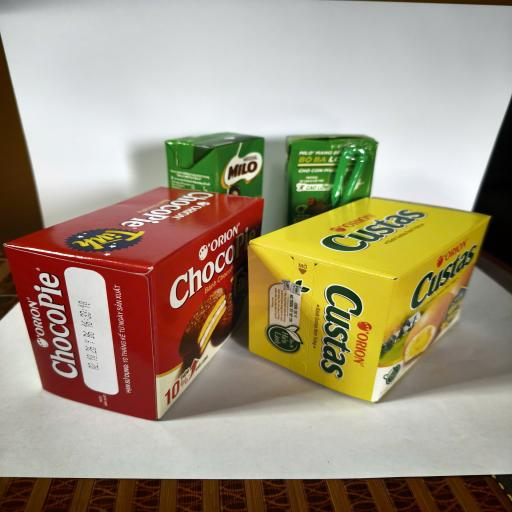chocopie: (3, 187, 264, 421)
custas: (247, 197, 492, 404)
milo: (285, 134, 378, 226), (165, 132, 264, 199)
